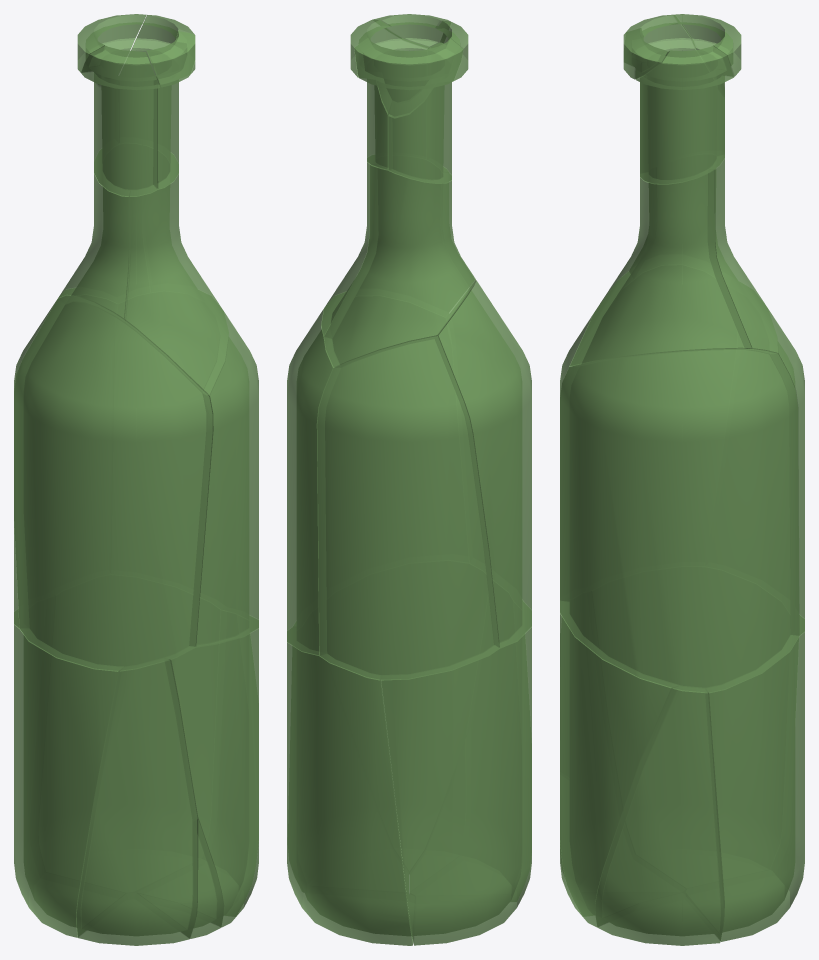
File: bottlebroken.fbx
3 renders of one model, left to right at view 1: azimuth 30°, elevation 25°; view 2: azimuth 150°, elevation 25°; view 3: azimuth 270°, elevation 25°, orthographic.
Visible parts, largest first — view 1: Cylinder001_cell.011, Cylinder001_cell.013, Cylinder001_cell.010, Cylinder001_cell, Cylinder001_cell.004, Cylinder001_cell.008, Cylinder001_cell.012, Cylinder001_cell.006, Cylinder001_cell.014, Cylinder001_cell.007, Cylinder001_cell.003, Cylinder001_cell.009 (+1 smaller); view 2: Cylinder001_cell.001, Cylinder001_cell.010, Cylinder001_cell.005, Cylinder001_cell.011, Cylinder001_cell.006, Cylinder001_cell.004, Cylinder001_cell.012, Cylinder001_cell.003, Cylinder001_cell.014, Cylinder001_cell.009, Cylinder001_cell.008; view 3: Cylinder001_cell.004, Cylinder001_cell.002, Cylinder001_cell.005, Cylinder001_cell.008, Cylinder001_cell, Cylinder001_cell.014, Cylinder001_cell.006, Cylinder001_cell.001, Cylinder001_cell.003, Cylinder001_cell.012, Cylinder001_cell.009.
Part boxes in pixels (x1,y1,x2,y2): Cylinder001_cell.011: [14, 295, 212, 670]; Cylinder001_cell.013: [76, 660, 197, 945]; Cylinder001_cell.010: [14, 624, 120, 937]; Cylinder001_cell: [168, 628, 258, 927]; Cylinder001_cell.004: [195, 312, 258, 646]; Cylinder001_cell.008: [124, 173, 228, 394]; Cylinder001_cell.012: [81, 45, 159, 196]; Cylinder001_cell.006: [58, 173, 129, 320]; Cylinder001_cell.014: [131, 15, 195, 188]; Cylinder001_cell.007: [190, 819, 223, 938]; Cylinder001_cell.003: [77, 14, 146, 72]; Cylinder001_cell.009: [146, 31, 195, 87]; Cylinder001_cell.001: [317, 336, 499, 679]; Cylinder001_cell.010: [381, 626, 531, 945]; Cylinder001_cell.005: [287, 642, 413, 945]; Cylinder001_cell.011: [437, 280, 531, 647]; Cylinder001_cell.006: [324, 164, 475, 367]; Cylinder001_cell.004: [287, 308, 447, 655]; Cylinder001_cell.012: [388, 21, 468, 183]; Cylinder001_cell.003: [354, 38, 463, 116]; Cylinder001_cell.014: [350, 19, 429, 169]; Cylinder001_cell.009: [372, 14, 450, 47]; Cylinder001_cell.008: [321, 161, 370, 335]; Cylinder001_cell.004: [560, 348, 799, 692]; Cylinder001_cell.002: [595, 688, 723, 945]; Cylinder001_cell.005: [707, 631, 804, 941]; Cylinder001_cell.008: [570, 169, 751, 365]; Cylinder001_cell: [560, 612, 673, 927]; Cylinder001_cell.014: [636, 46, 733, 183]; Cylinder001_cell.006: [714, 158, 777, 352]; Cylinder001_cell.001: [768, 309, 804, 635]; Cylinder001_cell.003: [673, 14, 741, 89]; Cylinder001_cell.012: [626, 14, 696, 52]; Cylinder001_cell.009: [623, 28, 667, 79].
Bounding box in the file's own units: 50.48 × 194 × 49.71.
